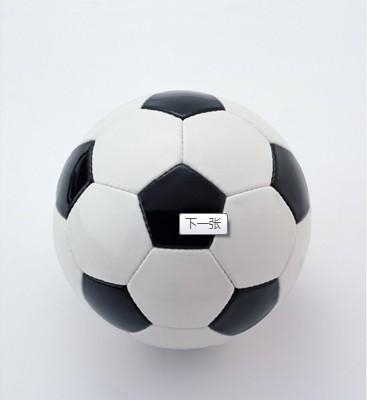football: (54, 91, 309, 350)
